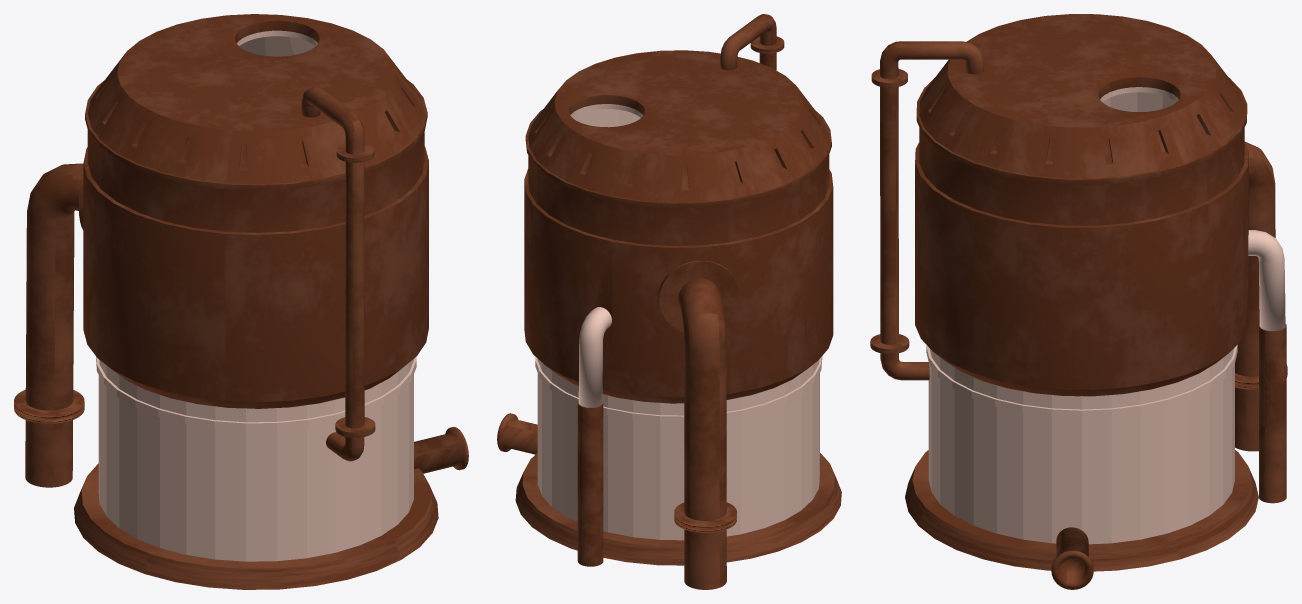
Rendered from Final_Fuel tank 2.glb.
3 renders of one model, left to right at view 1: azimuth 30°, elevation 25°; view 2: azimuth 150°, elevation 25°; view 3: azimuth 270°, elevation 25°, orthographic. The views are drawn at different scales.
Visible parts, largest first — view 1: tank body.001, Base.001, Cylinder.016, Cylinder.021, Cylinder.020, Cylinder.026, Cylinder.017; view 2: tank body.001, Base.001, Cylinder.016, Cylinder.021, Cylinder.019, Cylinder.018, Cylinder.020, Cylinder.026, Cylinder.017; view 3: tank body.001, Base.001, Cylinder.021, Cylinder.020, Cylinder.016, Cylinder.019, Cylinder.018, Cylinder.026.
Boxes of the visible parts, x1,y1,x2,y2 form: tank body.001: [83, 14, 428, 408]; Base.001: [96, 30, 416, 561]; Cylinder.016: [25, 163, 83, 487]; Cylinder.021: [74, 463, 438, 589]; Cylinder.020: [301, 87, 364, 461]; Cylinder.026: [414, 427, 468, 473]; Cylinder.017: [14, 389, 84, 423]; tank body.001: [524, 50, 833, 403]; Base.001: [535, 104, 822, 540]; Cylinder.016: [658, 260, 738, 589]; Cylinder.021: [515, 453, 841, 565]; Cylinder.019: [577, 401, 603, 566]; Cylinder.018: [578, 307, 611, 407]; Cylinder.020: [720, 14, 776, 70]; Cylinder.026: [497, 413, 537, 454]; Cylinder.017: [674, 502, 736, 532]; tank body.001: [915, 14, 1248, 396]; Base.001: [926, 87, 1237, 544]; Cylinder.021: [905, 450, 1258, 571]; Cylinder.020: [880, 41, 983, 380]; Cylinder.016: [1235, 141, 1275, 451]; Cylinder.019: [1259, 324, 1286, 503]; Cylinder.018: [1248, 230, 1285, 330]; Cylinder.026: [1051, 527, 1093, 589].
Size of the model in its own units: 4.96 by 6.27 by 5.2.
5 materials, 4 textured.
